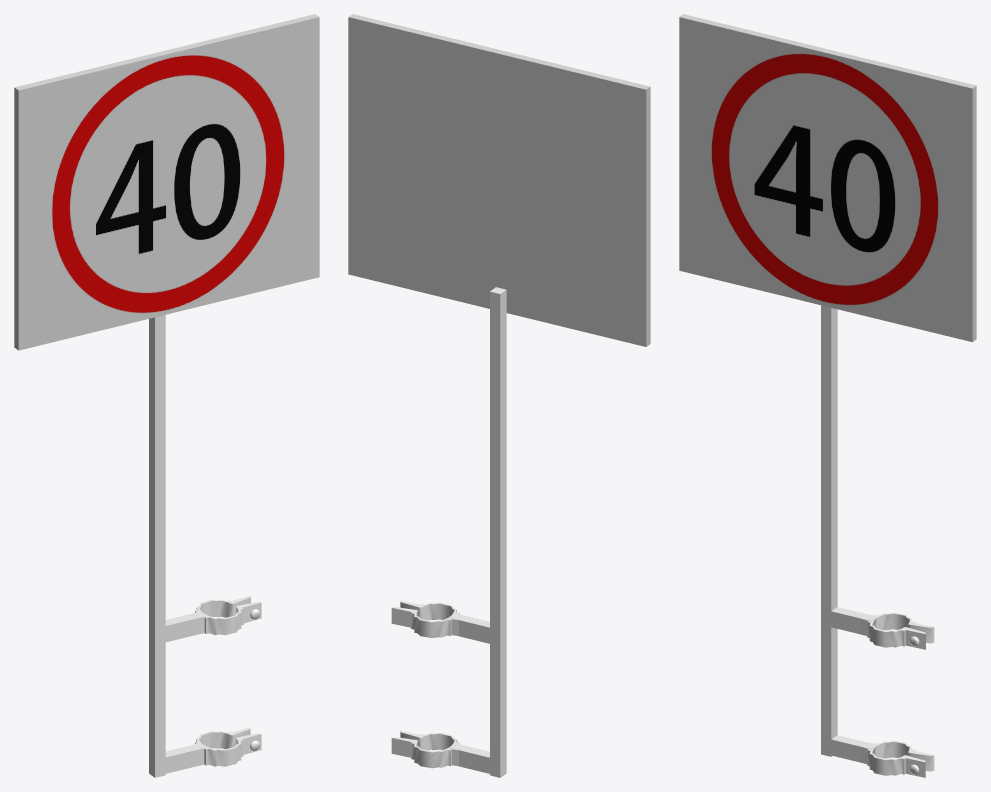
3 views of the same model, side by side, from view 1: azimuth 30°, elevation 25°; view 2: azimuth 150°, elevation 25°; view 3: azimuth 330°, elevation 25° (orthographic). The views are drawn at different scales.
Visible parts, largest first — view 1: 立方体.1-材质.4, 立方体, 立方体.1-材质.2, pCube31, pCube20, 立方体.1, 立方体.2; view 2: 立方体.1-材质.2, 立方体, pCube20, pCube31, 立方体.2, 立方体.1; view 3: 立方体.1-材质.4, 立方体, 立方体.1-材质.2, pCube31, pCube20, 立方体.2, 立方体.1.
Boxes of the visible parts, x1,y1,x2,y2 form: 立方体.1-材质.4: (18,17,319,350); 立方体: (149,315,165,777); 立方体.1-材质.2: (14,14,318,350); pCube31: (194,595,261,635); pCube20: (194,727,261,766); 立方体.1: (165,611,206,642); 立方体.2: (165,743,206,773); 立方体.1-材质.2: (348,14,650,346); 立方体: (490,287,506,777); pCube20: (391,730,459,768); pCube31: (391,600,459,638); 立方体.2: (449,743,491,774); 立方体.1: (449,613,491,644); 立方体.1-材质.4: (679,17,972,342); 立方体: (821,305,837,756); 立方体.1-材质.2: (679,14,976,341); pCube31: (860,612,934,649); pCube20: (860,740,934,777); 立方体.2: (831,735,877,762); 立方体.1: (831,607,877,634).
Size of the model in its own units: 7.01 by 16.13 by 0.9508.
4 materials, 1 textured.
